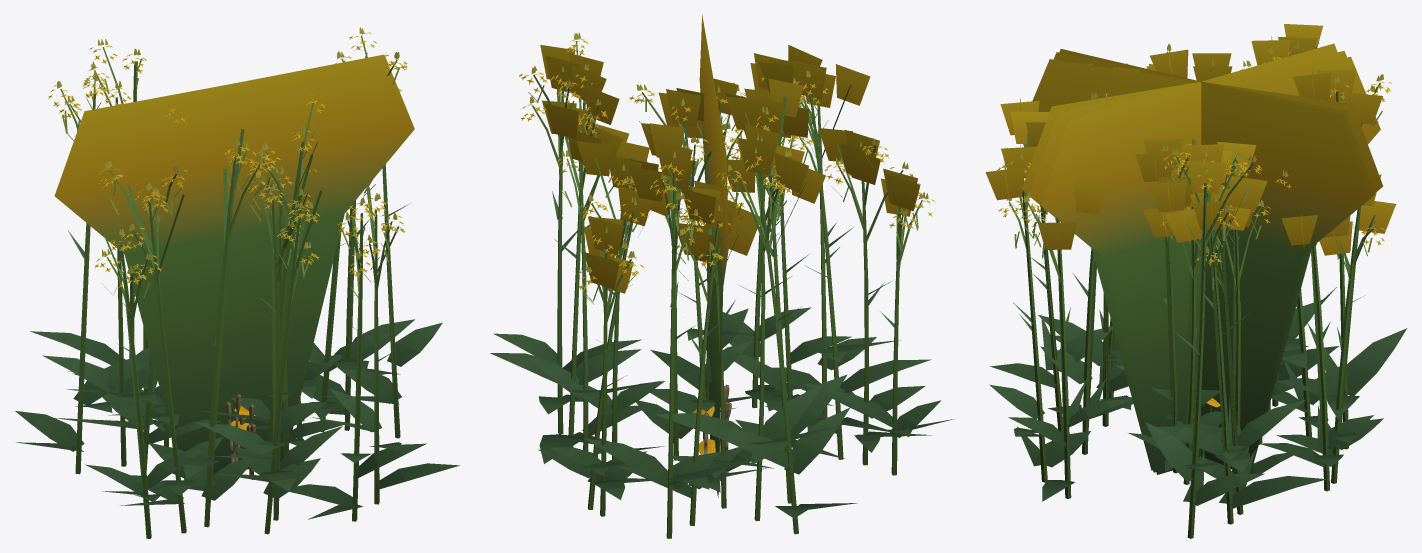
The model's file is nanohana.glb.
3 renders of one model, left to right at view 1: azimuth 30°, elevation 25°; view 2: azimuth 150°, elevation 25°; view 3: azimuth 270°, elevation 25°, orthographic. The views are drawn at different scales.
Visible parts, largest first — view 1: nanohana2_dist, nanohana1_dist, nanohana2, nanohana1, nanohana0, nanohana2_far, nanohana0_far, nanohana1_far, nanohana0_dist, tsukushi; view 2: nanohana1, nanohana2, nanohana0, nanohana0_far, nanohana1_far, nanohana2_far, nanohana2_dist; view 3: nanohana0_dist, nanohana2_dist, nanohana0, nanohana2, nanohana1, nanohana0_far, nanohana2_far, nanohana1_dist, nanohana1_far.
Part boxes in pixels (bbox=[...]): nanohana2_dist: bbox=[55, 54, 383, 480]; nanohana1_dist: bbox=[54, 55, 414, 469]; nanohana2: bbox=[42, 81, 459, 533]; nanohana1: bbox=[15, 39, 414, 538]; nanohana0: bbox=[72, 27, 442, 527]; nanohana2_far: bbox=[66, 97, 457, 507]; nanohana0_far: bbox=[54, 129, 418, 519]; nanohana1_far: bbox=[16, 61, 355, 516]; nanohana0_dist: bbox=[55, 55, 384, 424]; tsukushi: bbox=[226, 394, 255, 479]; nanohana1: bbox=[490, 32, 940, 538]; nanohana2: bbox=[528, 82, 925, 521]; nanohana0: bbox=[493, 66, 931, 525]; nanohana0_far: bbox=[504, 45, 897, 493]; nanohana1_far: bbox=[495, 53, 954, 509]; nanohana2_far: bbox=[542, 78, 931, 465]; nanohana2_dist: bbox=[699, 14, 728, 497]; nanohana0_dist: bbox=[1029, 49, 1369, 472]; nanohana2_dist: bbox=[1042, 43, 1374, 474]; nanohana0: bbox=[989, 59, 1386, 538]; nanohana2: bbox=[1008, 43, 1373, 514]; nanohana1: bbox=[990, 37, 1407, 524]; nanohana0_far: bbox=[985, 45, 1396, 509]; nanohana2_far: bbox=[1038, 36, 1328, 499]; nanohana1_dist: bbox=[1022, 57, 1383, 470]; nanohana1_far: bbox=[1000, 24, 1382, 503].
Size of the model in its own units: 1.06 by 0.996 by 0.9848.
